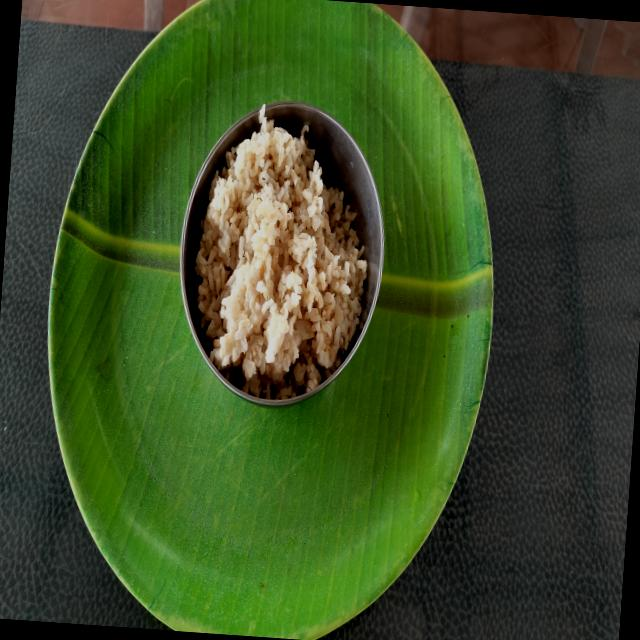brown-rice: (194, 106, 367, 399)
